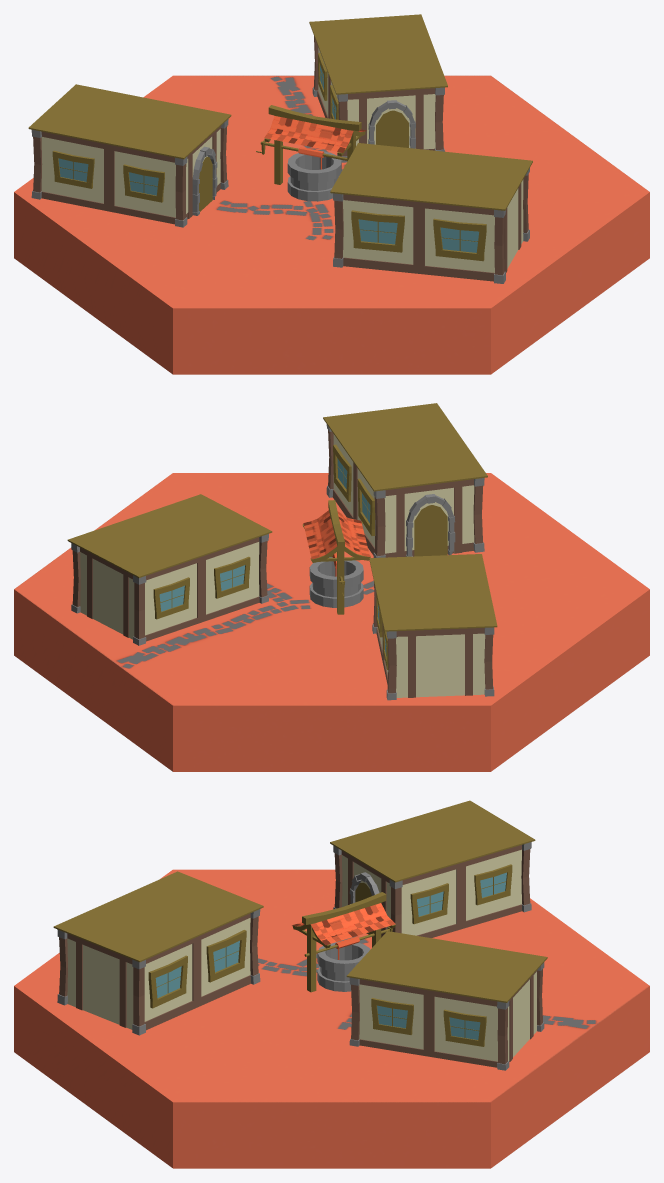
Rendered from Tuile_Village_N2.fbx.
The picture shows the model from 3 angles, top to bottom: view 1: azimuth 30°, elevation 25°; view 2: azimuth 150°, elevation 25°; view 3: azimuth 270°, elevation 25°; orthographic projection.
Visible parts, largest first — view 1: CHEMIN, socle.003, base House.003, socle.001, socle.002, base House.001, windows bas.003, base House.002, windows bas.001, Cylinder.004, Plane.003, poutre bas.001 (+7 smaller); view 2: CHEMIN, socle.003, base House.002, socle.002, socle.001, base House.001, base House.003, door.003, windows bas.002, Cylinder.004, poutre bas.005, Plane.003 (+3 smaller); view 3: CHEMIN, base House.003, socle.003, base House.002, socle.002, socle.001, base House.001, windows bas.003, windows bas.002, windows bas.001, poutre bas.001, Plane.003 (+6 smaller).
Boxes of the visible parts, x1,y1,x2,y2 form: CHEMIN: [14, 75, 649, 374]; socle.003: [330, 143, 532, 210]; base House.003: [343, 179, 523, 281]; socle.001: [28, 84, 231, 159]; socle.002: [309, 14, 447, 94]; base House.001: [41, 125, 221, 224]; windows bas.003: [351, 210, 486, 261]; base House.002: [317, 47, 435, 150]; windows bas.001: [52, 150, 164, 202]; Cylinder.004: [287, 151, 341, 201]; Plane.003: [264, 116, 366, 152]; poutre bas.001: [333, 168, 529, 283]; CHEMIN: [14, 473, 649, 771]; socle.003: [323, 403, 487, 491]; base House.002: [80, 537, 259, 641]; socle.002: [67, 494, 272, 577]; socle.001: [369, 554, 497, 631]; base House.001: [376, 623, 485, 697]; base House.003: [332, 434, 474, 557]; door.003: [406, 494, 455, 556]; windows bas.002: [153, 556, 250, 619]; Cylinder.004: [309, 557, 363, 607]; poutre bas.005: [71, 534, 268, 645]; Plane.003: [303, 510, 369, 559]; CHEMIN: [14, 869, 649, 1168]; base House.003: [67, 913, 250, 1030]; socle.003: [53, 871, 263, 962]; base House.002: [359, 970, 537, 1067]; socle.002: [346, 931, 547, 1002]; socle.001: [330, 800, 535, 882]; base House.001: [341, 845, 522, 937]; windows bas.003: [148, 930, 246, 1008]; windows bas.002: [371, 998, 486, 1046]; windows bas.001: [410, 864, 512, 924]; poutre bas.001: [57, 909, 260, 1035]; Plane.003: [292, 903, 395, 945].
Bounding box in the file's own units: 107 × 30.53 × 124.
